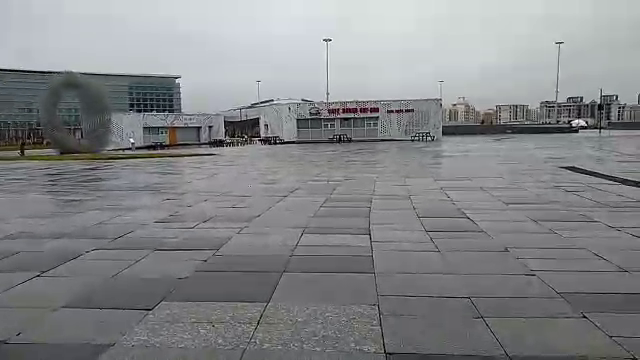kebab: (293, 100, 433, 143)
